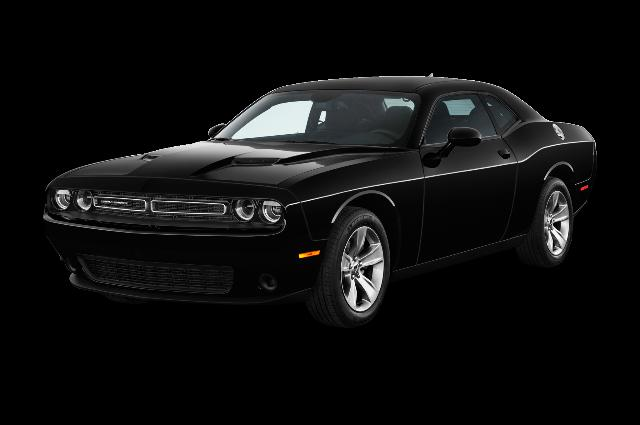dodge: (42, 74, 598, 332)
